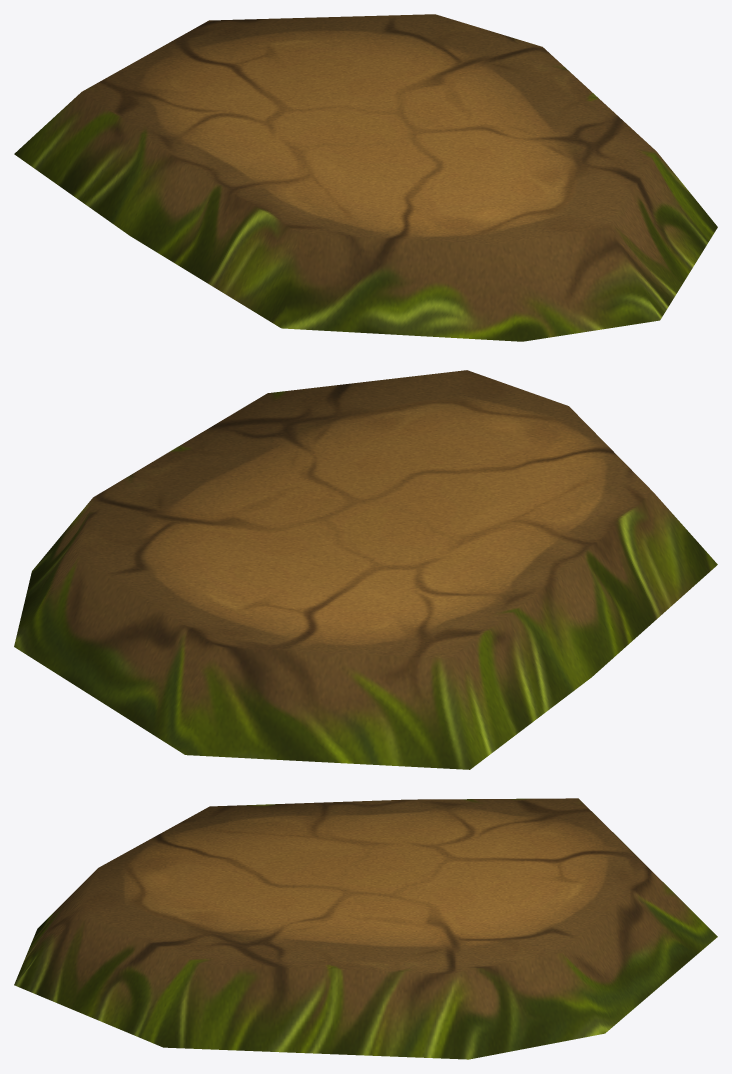
The model's file is SteppingStone6.fbx.
3 views of the same model, one above another, from view 1: azimuth 30°, elevation 25°; view 2: azimuth 150°, elevation 25°; view 3: azimuth 270°, elevation 25° (orthographic). The views are drawn at different scales.
Visible parts, largest first — view 1: Mesh; view 2: Mesh; view 3: Mesh.
Boxes of the visible parts, x1,y1,x2,y2 form: Mesh: (14,14,717,341); Mesh: (14,370,717,769); Mesh: (14,798,717,1059).
Size of the model in its own units: 78.48 by 11.01 by 108.
